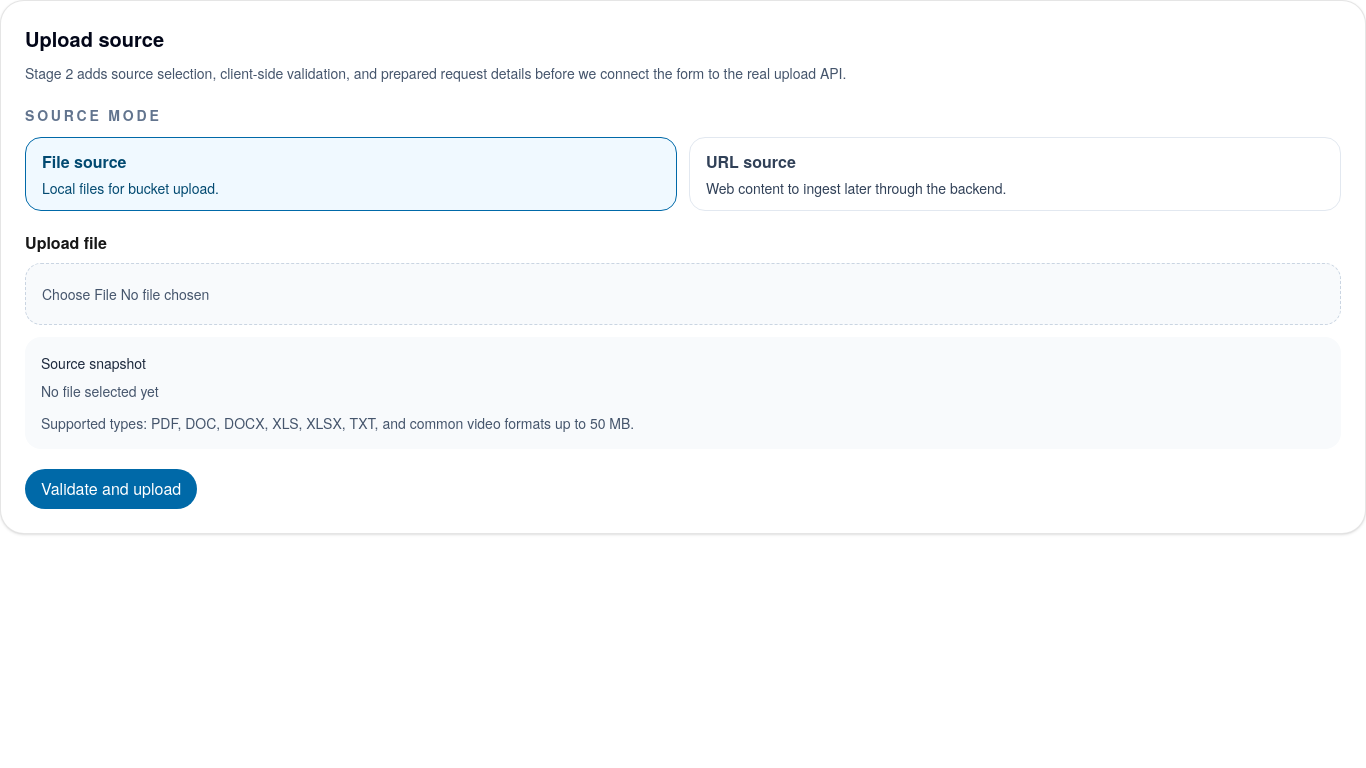
Scenario: UploadForm › shows a validation error when no file is selected
The image size is (1366, 768).
Click the button "Validate and upload" at x=111, y=489, box [25,469,197,509]
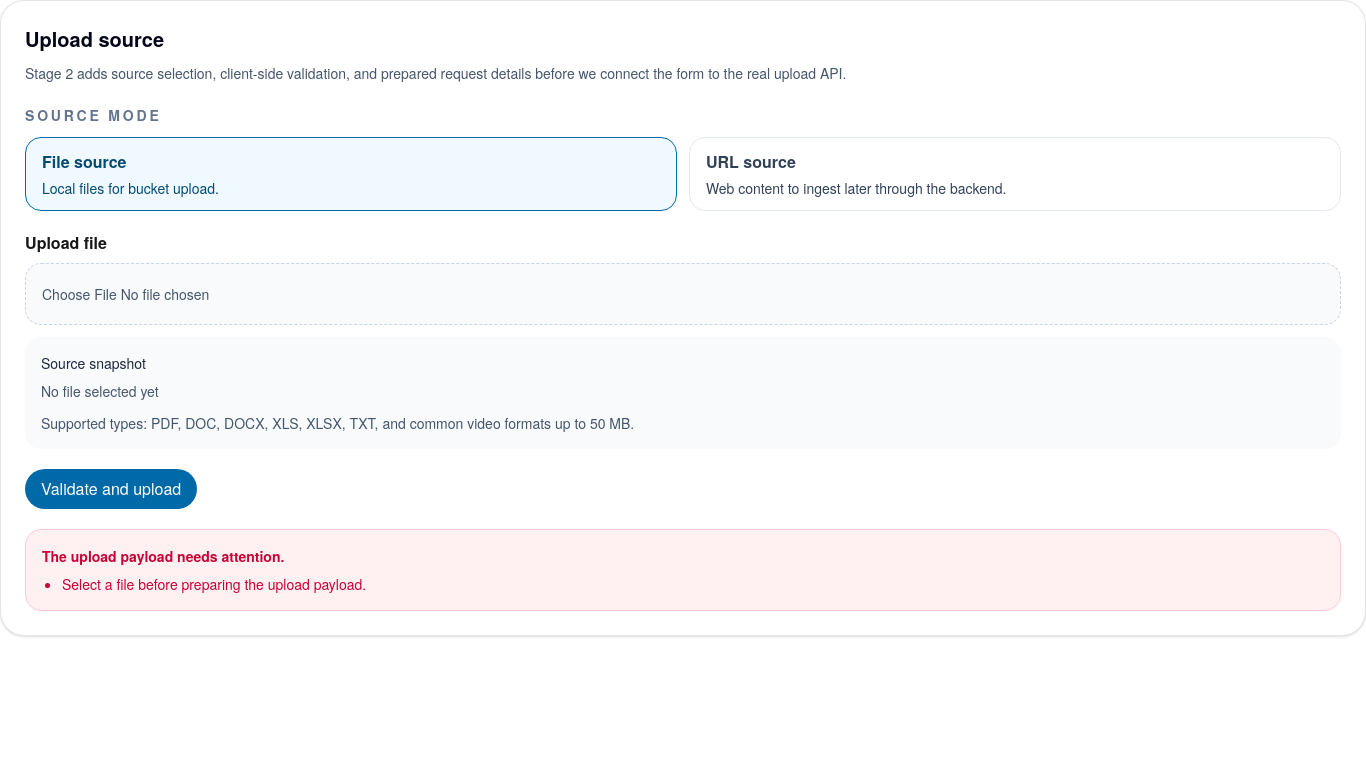
Expected: the message shows "select a file before preparing the upload payload", [62,574,366,594]
